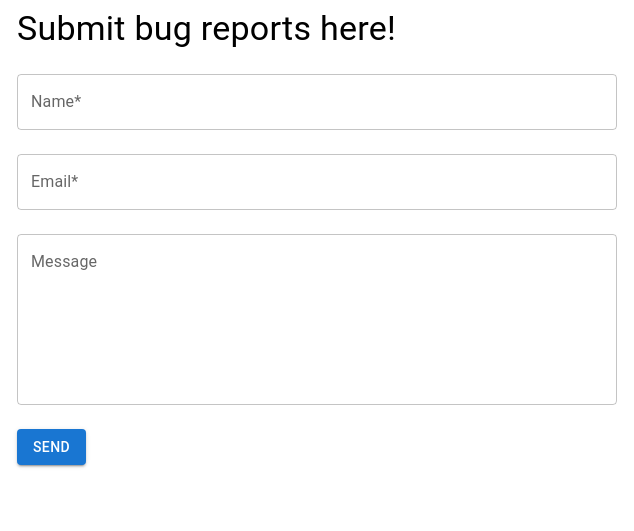
Test: ComplaintForm › should validate the name field
Click the button "Send" at (52, 447), box [17,429,86,466]
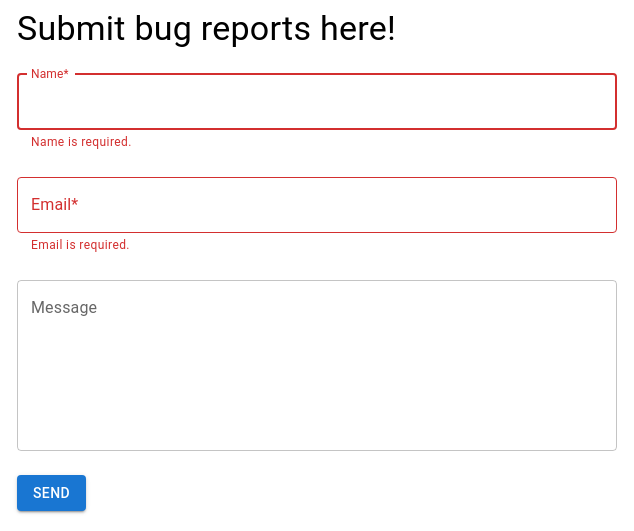
Now the text "Name is required." is shown, box [31,135,132,149]
